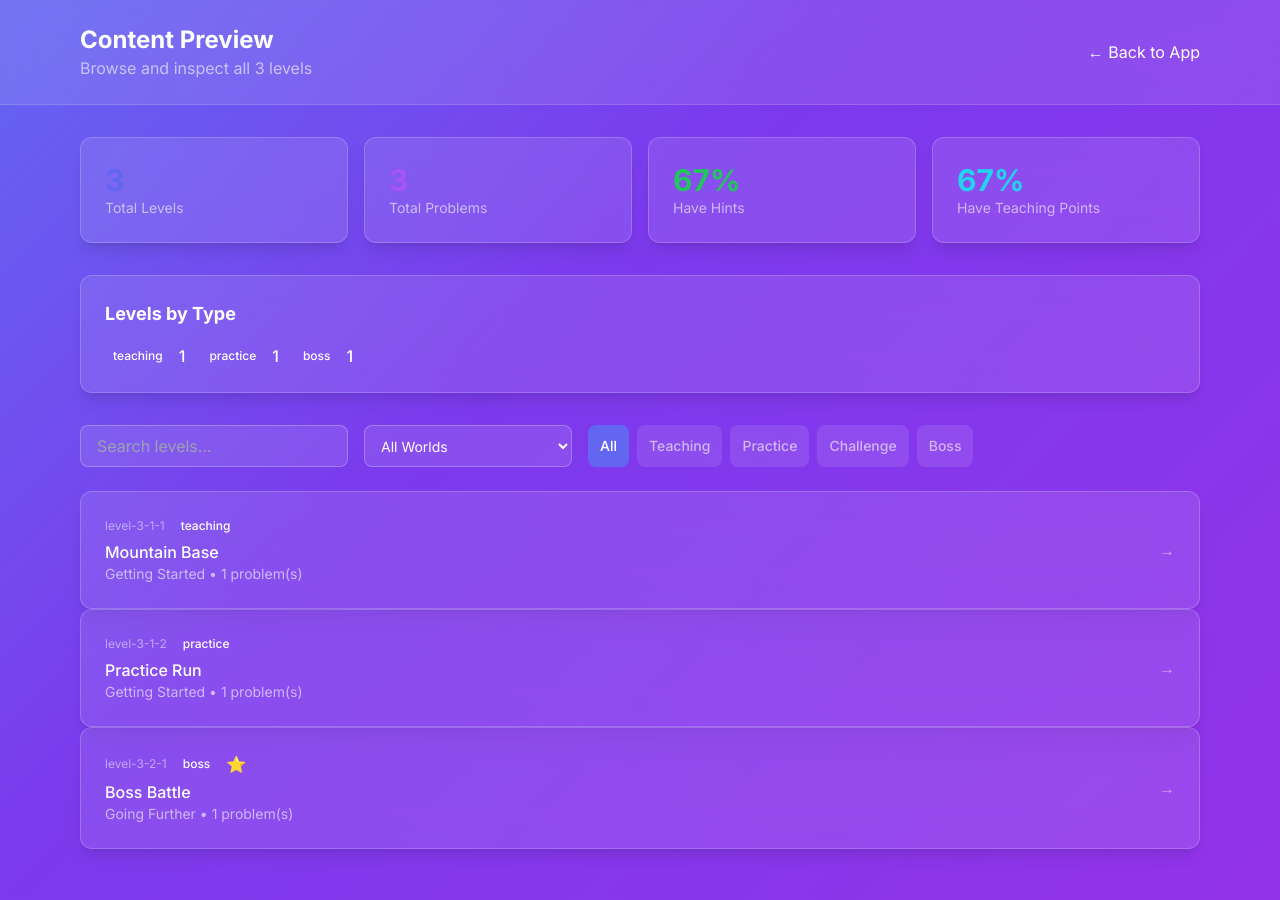
AdminPage › should search by level name
Type "mountain" into the field with placeholder "Search levels...".
click(214, 446); type("mountain")  # box [80, 425, 348, 467]
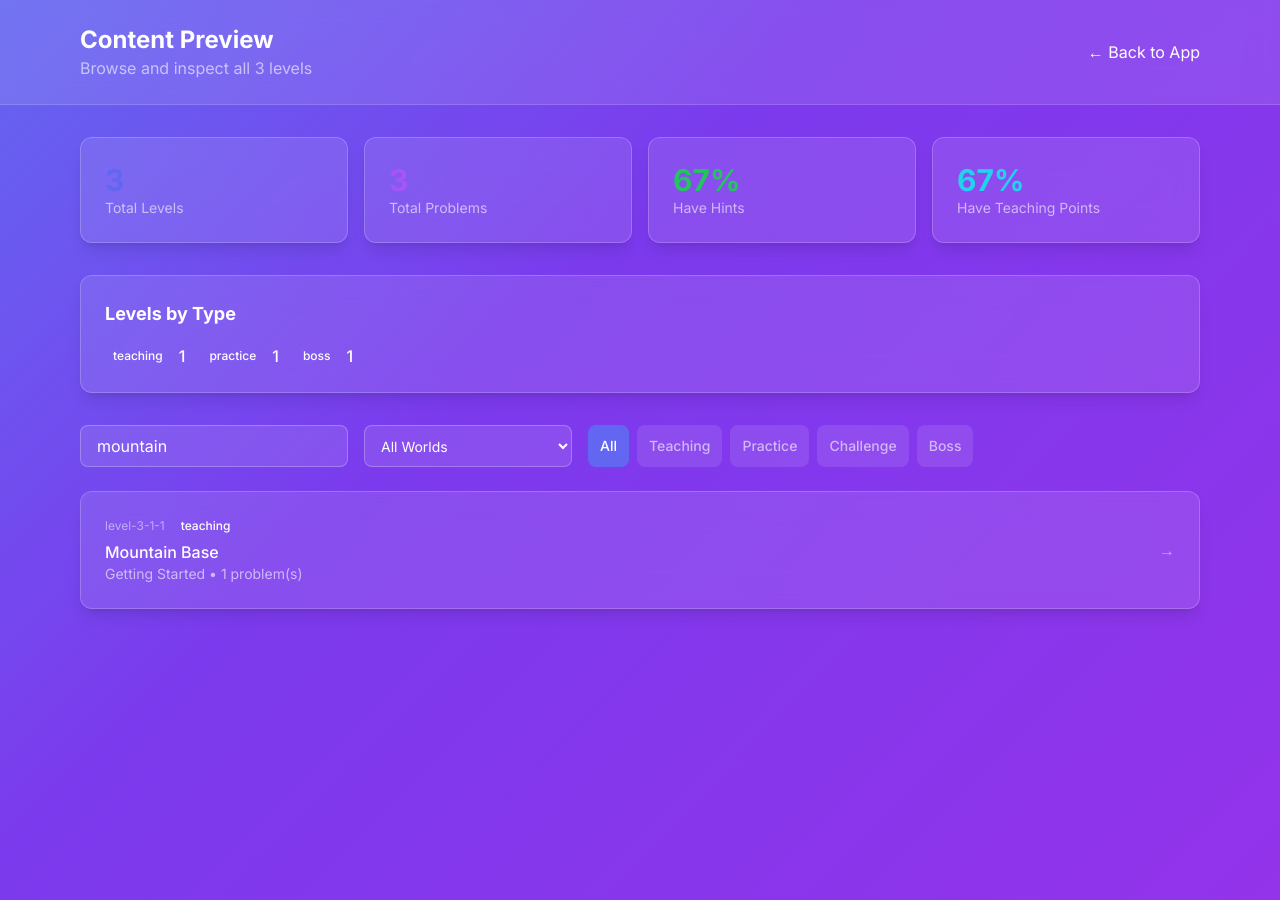
Check: the heading "Mountain Base" is shown, box [105, 542, 219, 562]
Check: the link "Practice Run" is gone
Check: the link "Boss Battle" is gone
